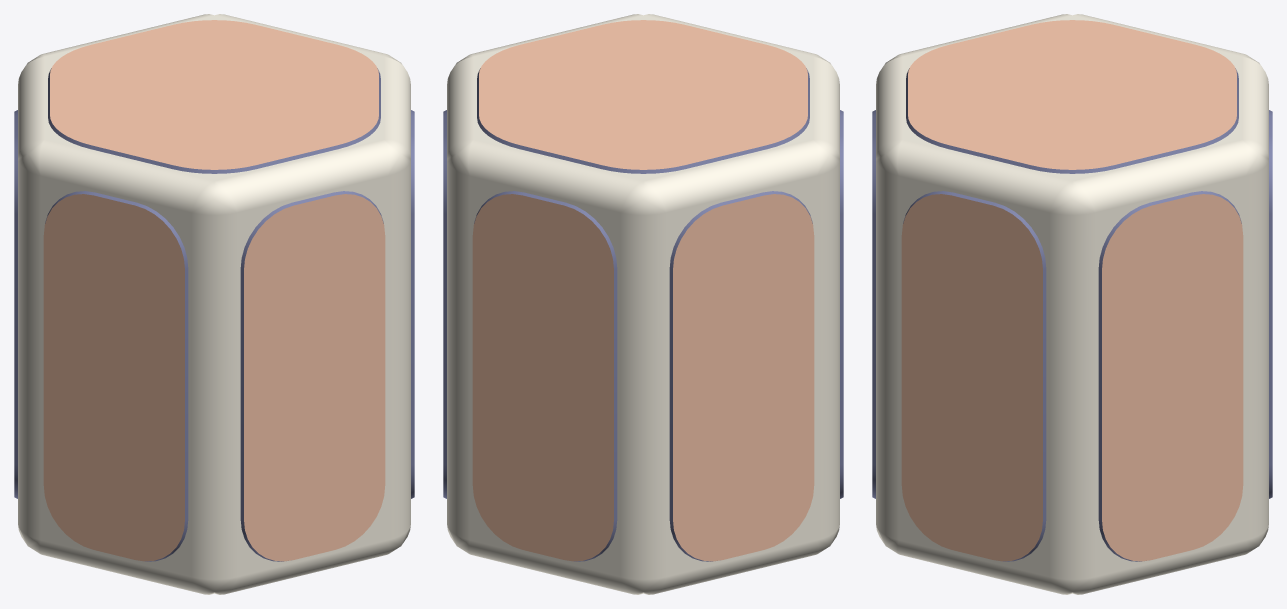
Rendered from R4B_HexColumn.fbx.
3 renders of one model, left to right at view 1: azimuth 30°, elevation 25°; view 2: azimuth 150°, elevation 25°; view 3: azimuth 270°, elevation 25°, orthographic.
Visible parts, largest first — view 1: R4B_HexColumn; view 2: R4B_HexColumn; view 3: R4B_HexColumn.
Part boxes in pixels (x1=…): R4B_HexColumn: x1=14, y1=14, x2=414, y2=594; R4B_HexColumn: x1=443, y1=14, x2=843, y2=594; R4B_HexColumn: x1=872, y1=14, x2=1272, y2=594.
Size of the model in its own units: 0.4947 by 0.52 by 0.4503.
